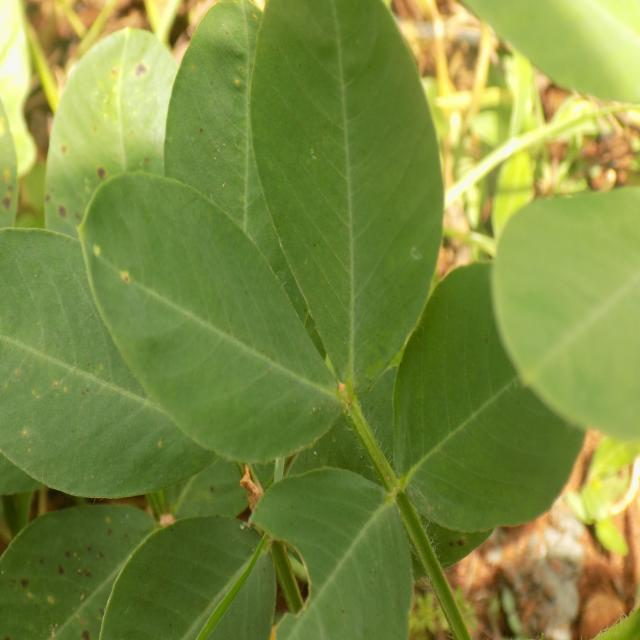Ground nut_healthy: (85, 174, 346, 453), (251, 0, 439, 382), (396, 255, 594, 532), (159, 2, 301, 302)
